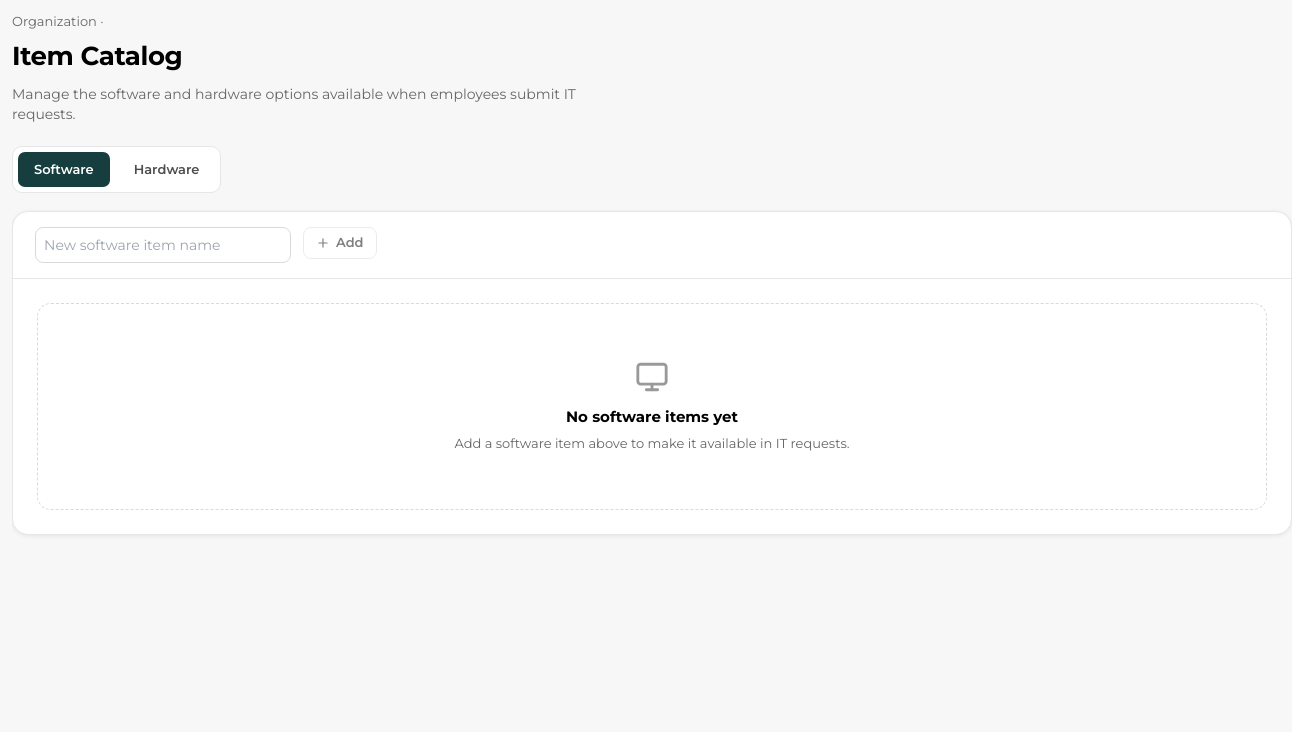
pressing Enter in the input also adds the item
Expected: the text "No software items yet" is shown, [566,407,738,426]
Step 1. Type "Mouse" into the field with placeholder "New software item name" → (163, 245), box [35,227,291,263]
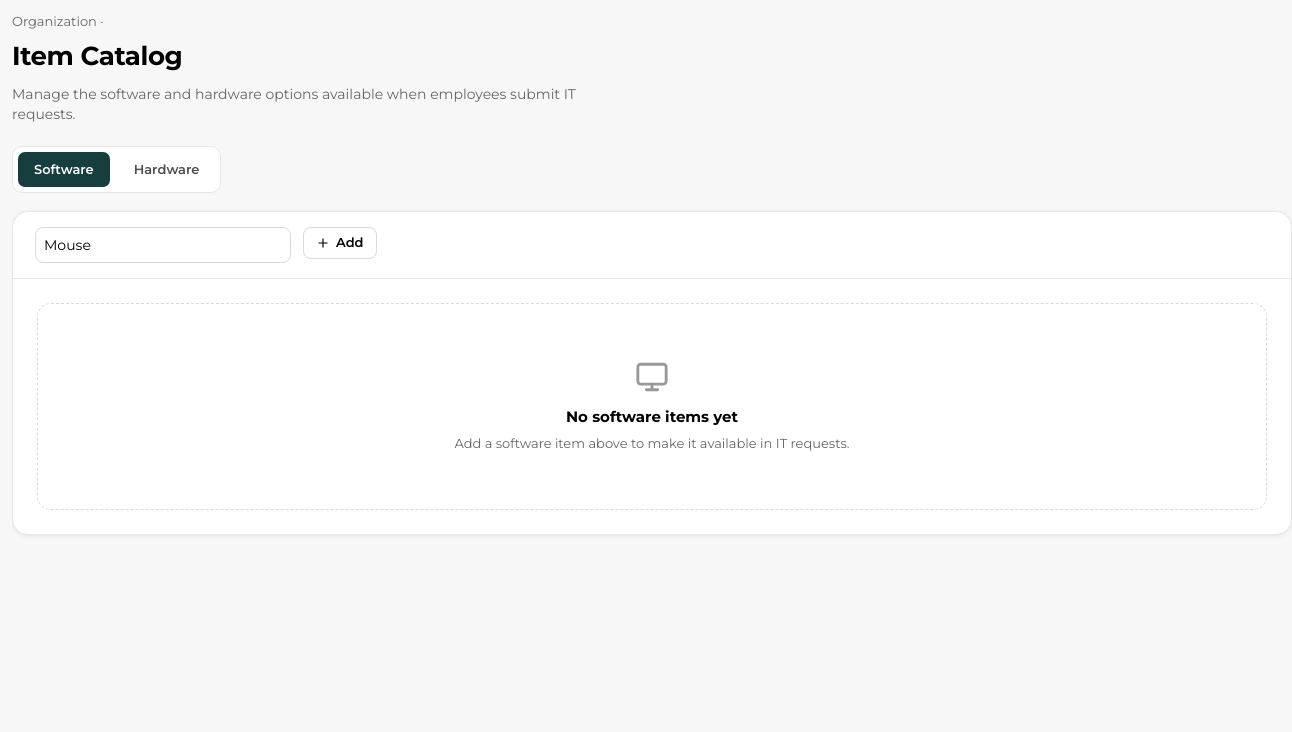
Step 2. Press Enter in the field with placeholder "New software item name", box [35,227,291,263]
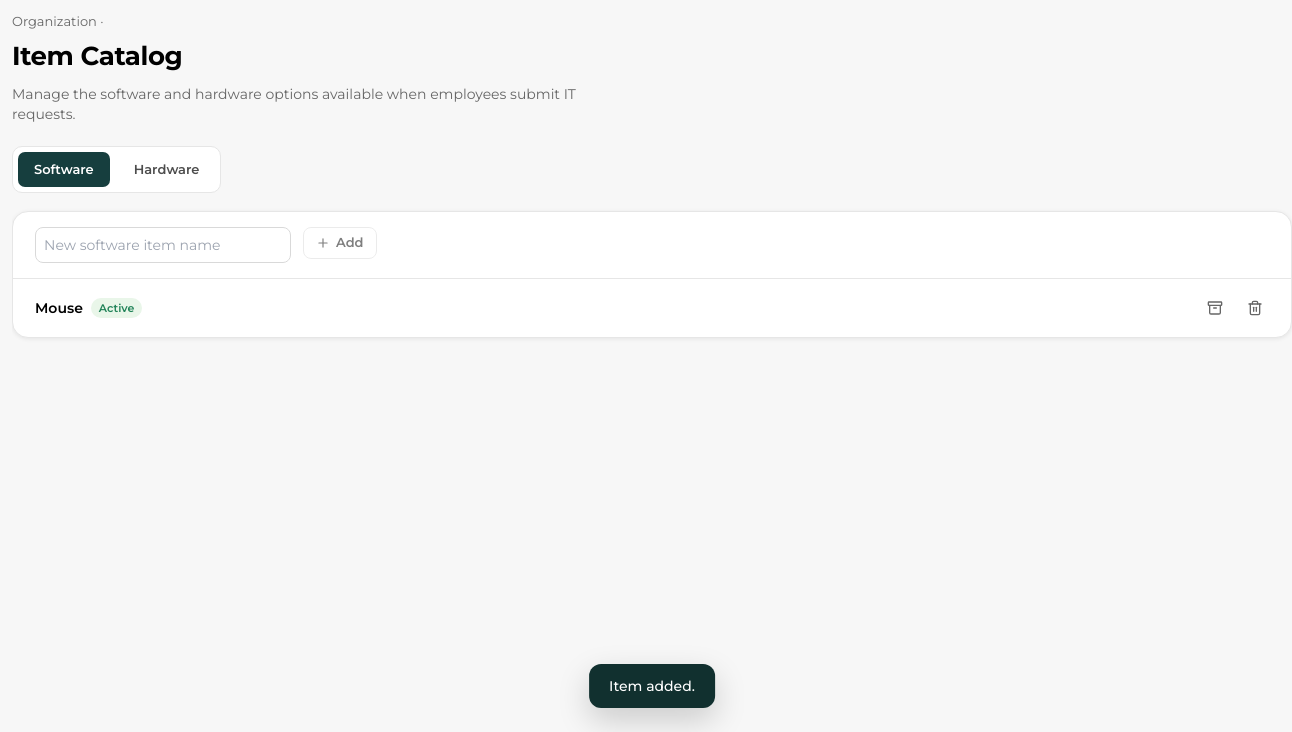
Expected: the text "Item added." is shown, [589,664,715,708]
